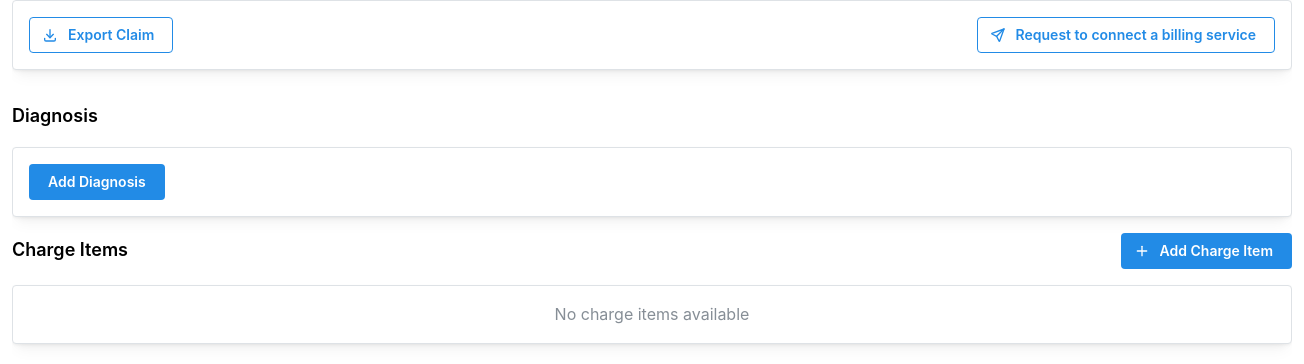
Test: BillingTab › shows export menu options when export button is clicked
Click the button "Export Claim".
click(101, 35)  # box [29,17,173,53]
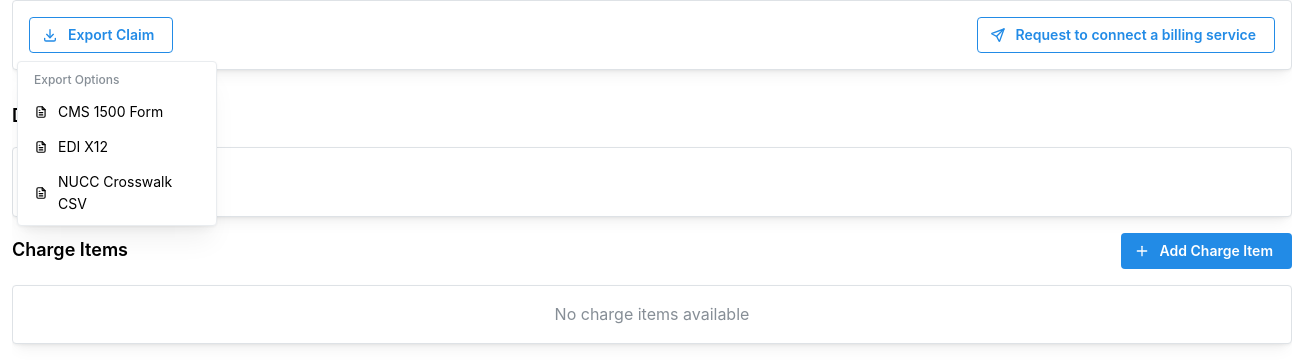
Result: the text "CMS 1500 Form" is shown at [58,103,163,120]
Result: the text "EDI X12" is shown at [58,138,108,155]
Result: the text "NUCC Crosswalk CSV" is shown at [58,173,172,212]
